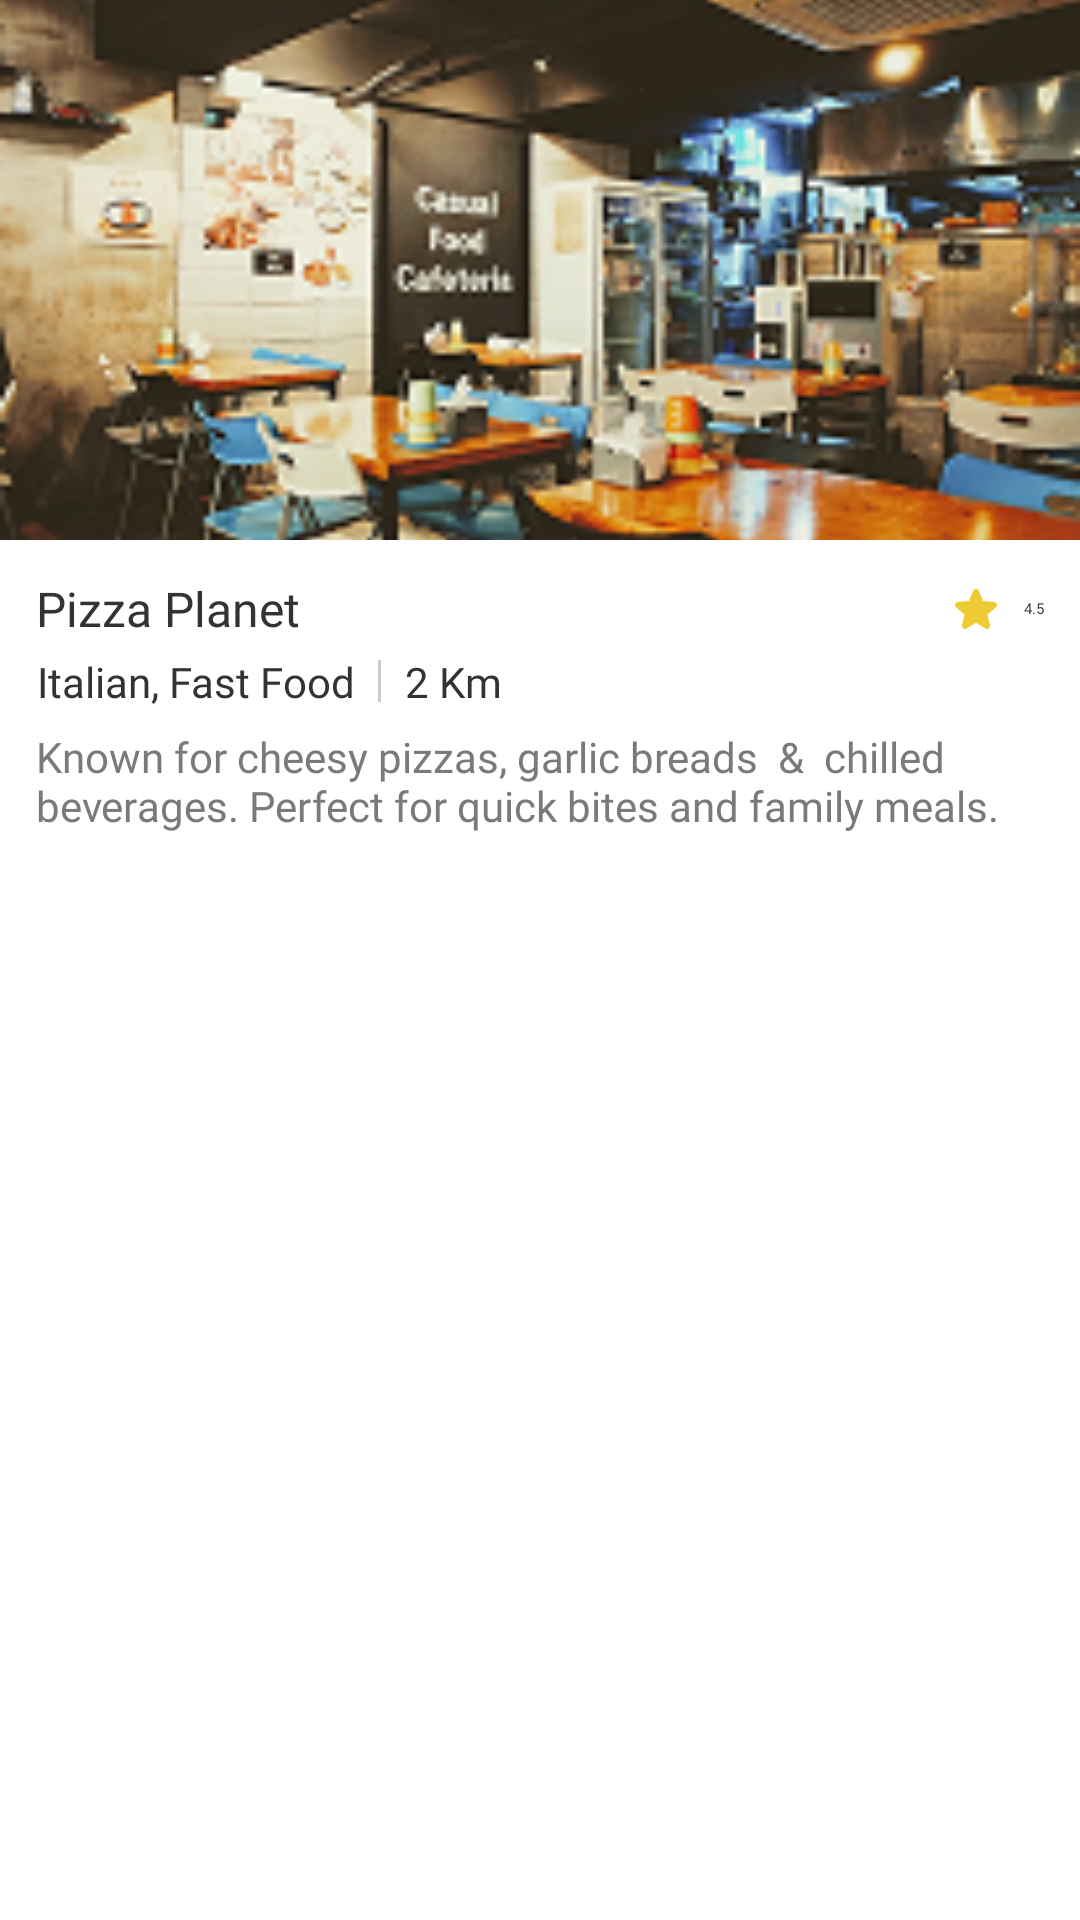

Named icons in this screenshot (1080*1920) and their bounding boxes, (x1, y1, x2, y2):
star: (955, 589, 997, 629)
